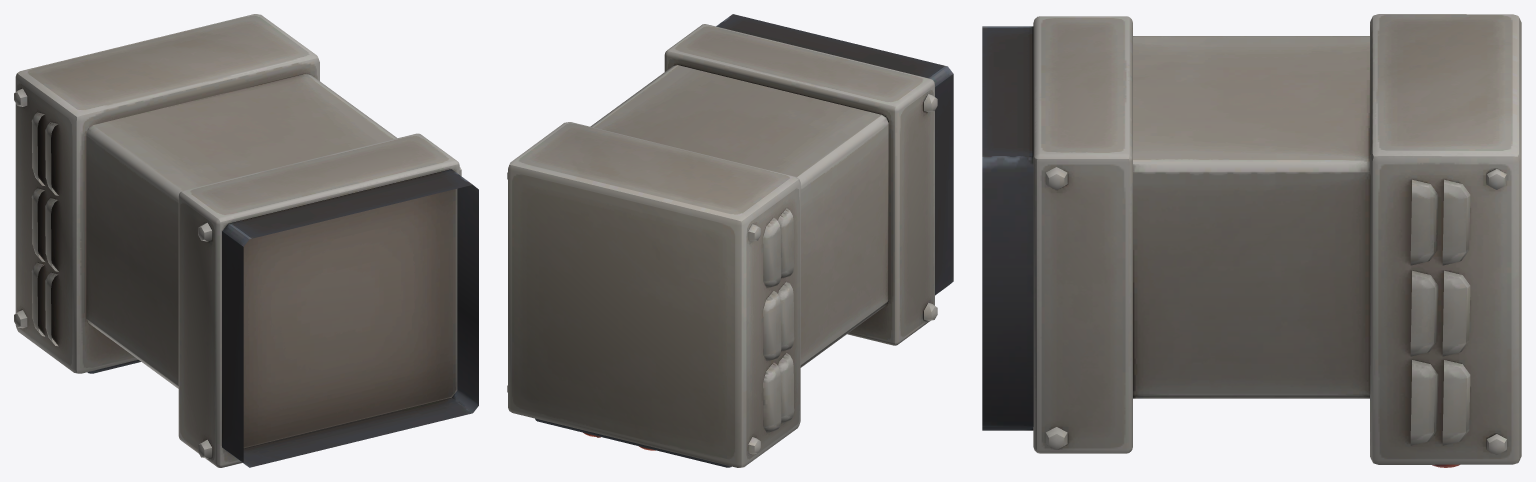
File: Oven.fbx
3 views of the same model, side by side, from view 1: azimuth 30°, elevation 25°; view 2: azimuth 150°, elevation 25°; view 3: azimuth 270°, elevation 25° (orthographic). The views are drawn at different scales.
Parts seen in each view (by area): view 1: m_ovenmain_01; view 2: m_ovenmain_01; view 3: m_ovenmain_01.
Boxes of the visible parts, x1=… form: m_ovenmain_01: x1=14, y1=14, x2=478, y2=467; m_ovenmain_01: x1=507, y1=14, x2=953, y2=467; m_ovenmain_01: x1=982, y1=14, x2=1521, y2=467.
Size of the model in its own units: 1.28 by 1.9 by 1.33.
1 material, 1 textured.
